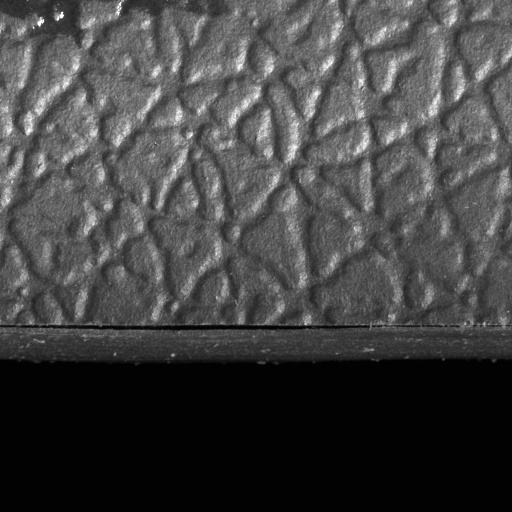jiaofeng: (0, 318, 353, 344)
